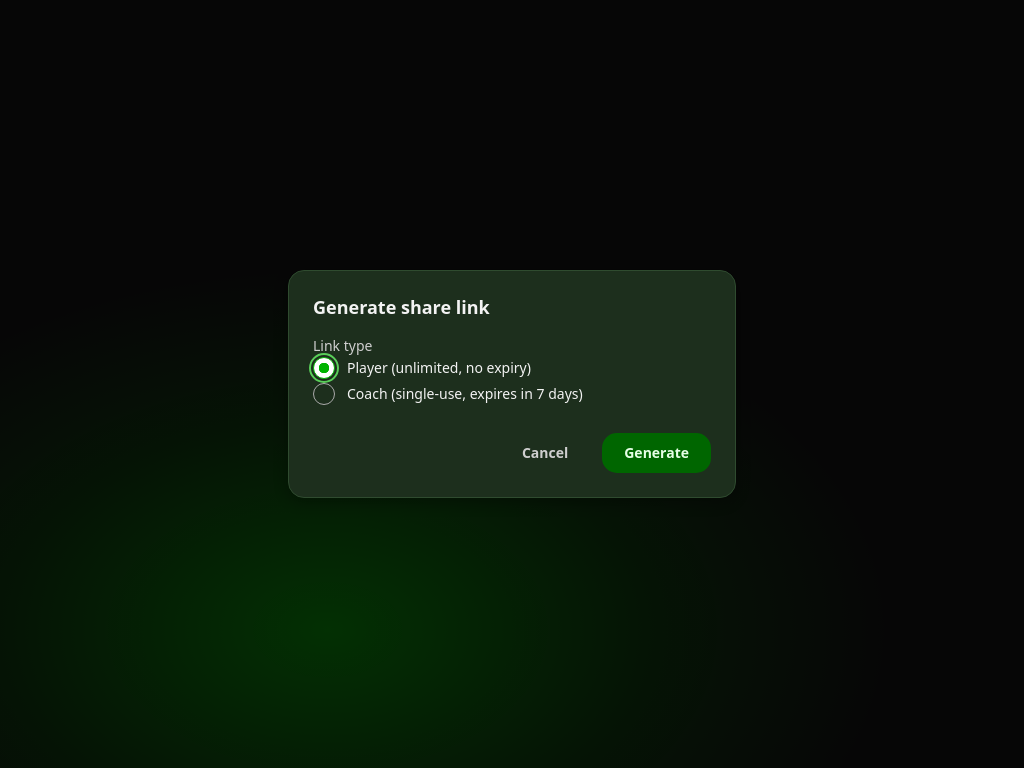
Test: GenerateShareLinkModal › shows the targetEmail field only for COACH_UNIQUE and requires it before submit
Check: the field labelled "email" is not shown
Click the radio button labelled "Coach (single-use, expires in 7 days)".
click(324, 394)  # box [313,383,335,405]
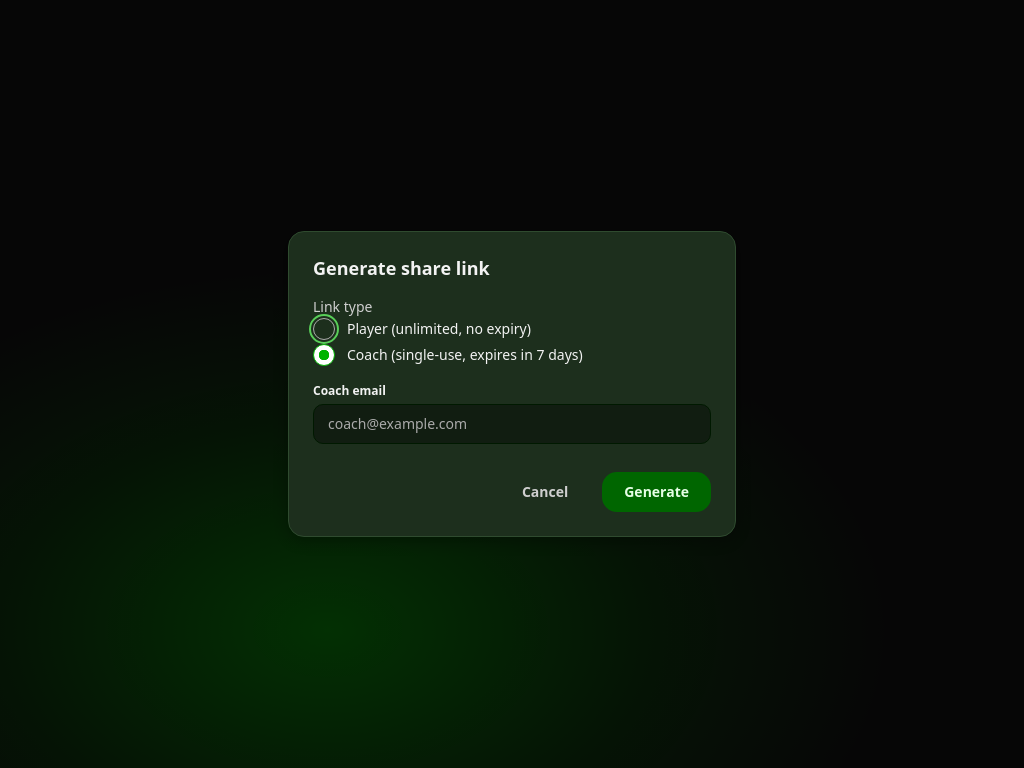
Check: the field labelled "Coach email" is shown, box [313,404,711,444]
Click the button "Generate".
click(657, 492)  # box [602,472,711,512]
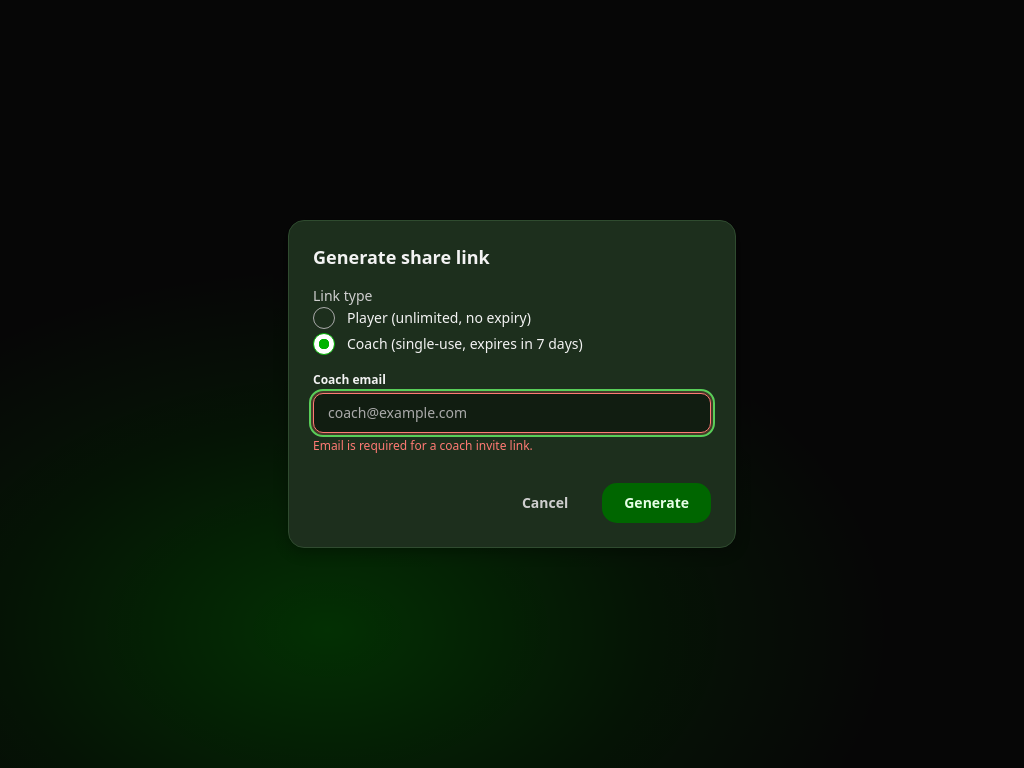
Check: the message "Email is required for a coach invite link." is shown, box [313,437,533,454]
